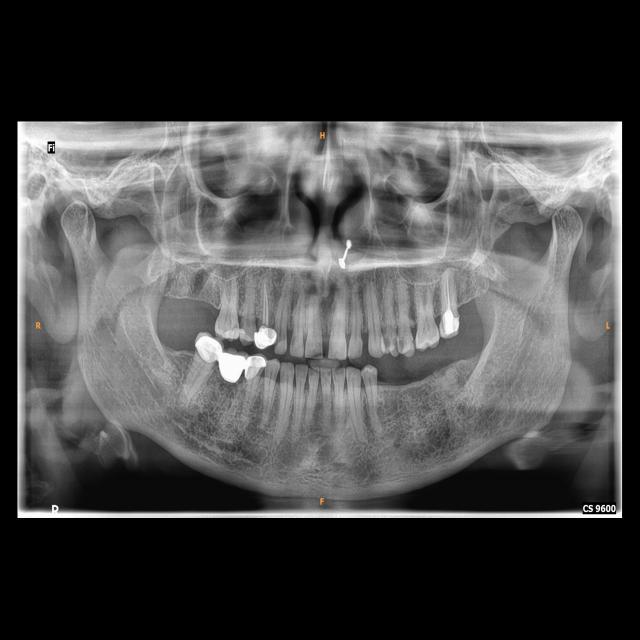dolgu: (441, 308, 460, 336)
kanal-tedavisi: (436, 274, 456, 310), (258, 280, 271, 325)
kaplama: (193, 334, 222, 361), (252, 323, 278, 348), (246, 352, 266, 378)
kopru: (212, 351, 254, 395)
